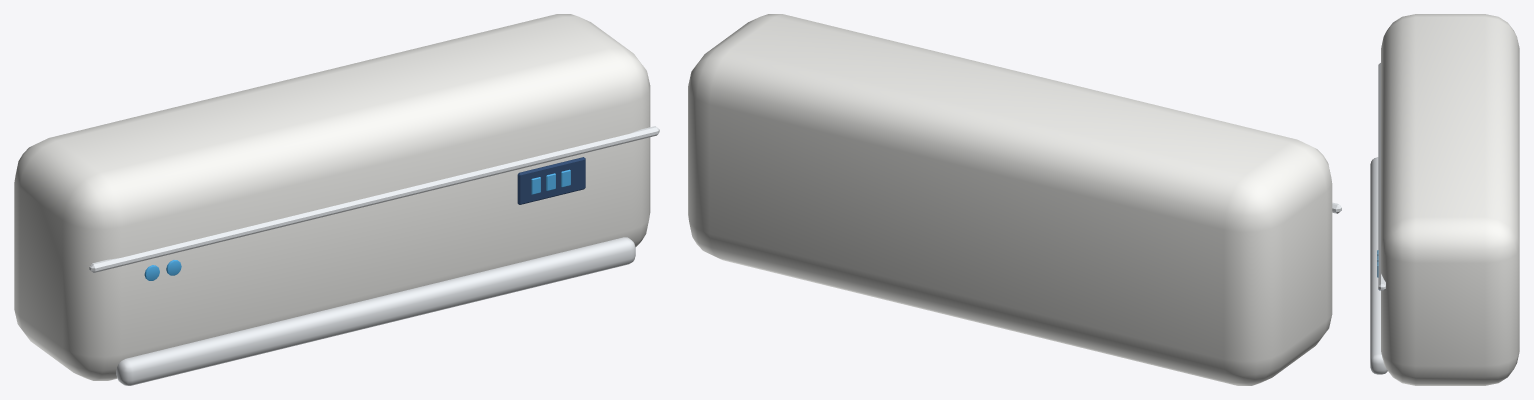
Rendered from ar_condicionado.glb.
3 renders of one model, left to right at view 1: azimuth 30°, elevation 25°; view 2: azimuth 150°, elevation 25°; view 3: azimuth 270°, elevation 25°, orthographic. The views are drawn at different scales.
Parts seen in each view (by area): view 1: ar_condicionado; view 2: ar_condicionado; view 3: ar_condicionado.
Part boxes in pixels (x1=…): ar_condicionado: x1=14, y1=14, x2=659, y2=385; ar_condicionado: x1=688, y1=14, x2=1341, y2=385; ar_condicionado: x1=1370, y1=14, x2=1519, y2=385.
Bounding box in the file's own units: 0.86 × 0.29 × 0.237.
Materials: 1 (1 with a texture image).
